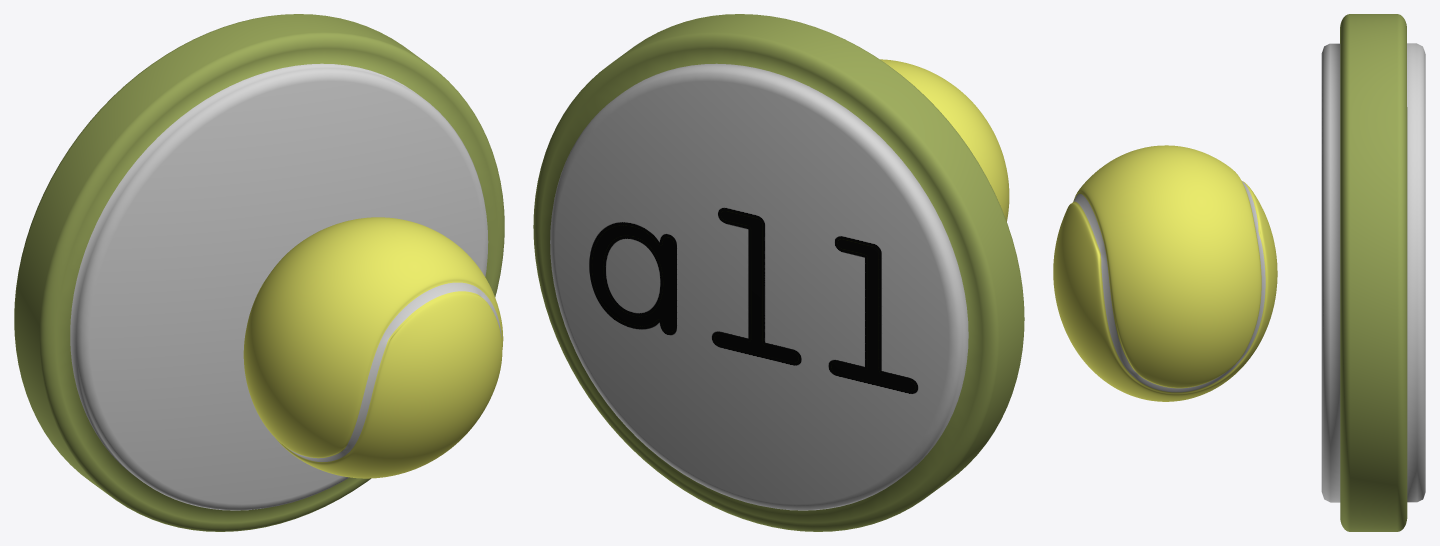
Rendered from ball.gltf.
3 renders of one model, left to right at view 1: azimuth 30°, elevation 25°; view 2: azimuth 150°, elevation 25°; view 3: azimuth 270°, elevation 25°, orthographic. The views are drawn at different scales.
Visible parts, largest first — view 1: coin, Cube; view 2: coin, Cube; view 3: coin, Cube.
Boxes of the visible parts, bbox=[...] form: coin: bbox=[14, 14, 504, 531]; Cube: bbox=[243, 217, 503, 478]; coin: bbox=[533, 14, 1024, 531]; Cube: bbox=[880, 59, 1009, 221]; coin: bbox=[1321, 14, 1425, 531]; Cube: bbox=[1053, 145, 1277, 401].
Size of the model in its own units: 2.56 by 2.56 by 1.84.
5 materials, 1 textured.
